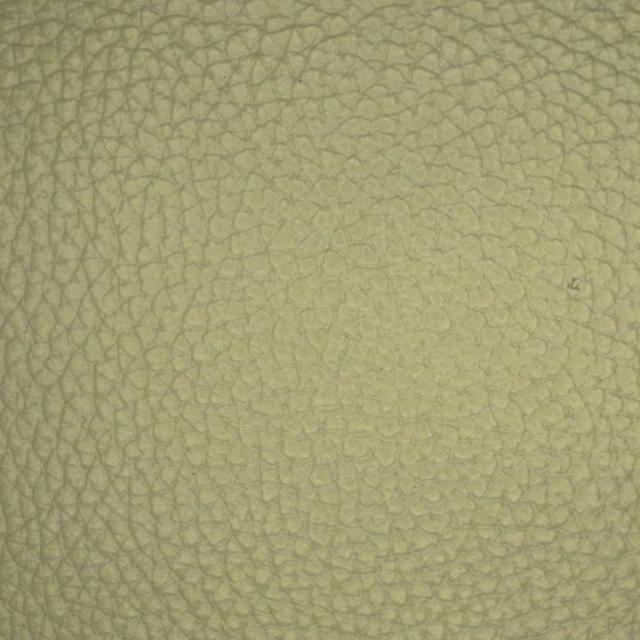pinhole: (510, 200, 621, 367)
